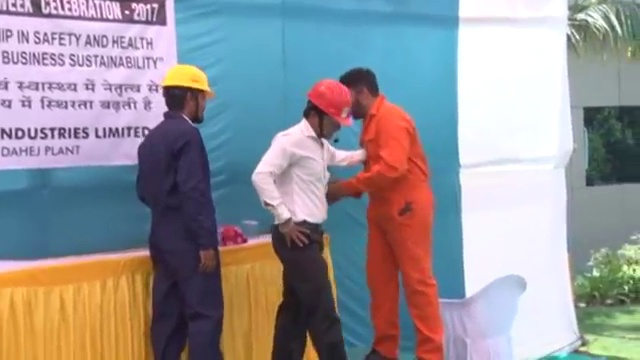helmet: (307, 76, 353, 128), (161, 62, 216, 98)
helmet_off: (340, 66, 382, 121)
helmet_on: (304, 73, 356, 145), (160, 62, 217, 127)
person: (339, 68, 447, 360), (248, 74, 358, 360), (138, 61, 228, 360)
